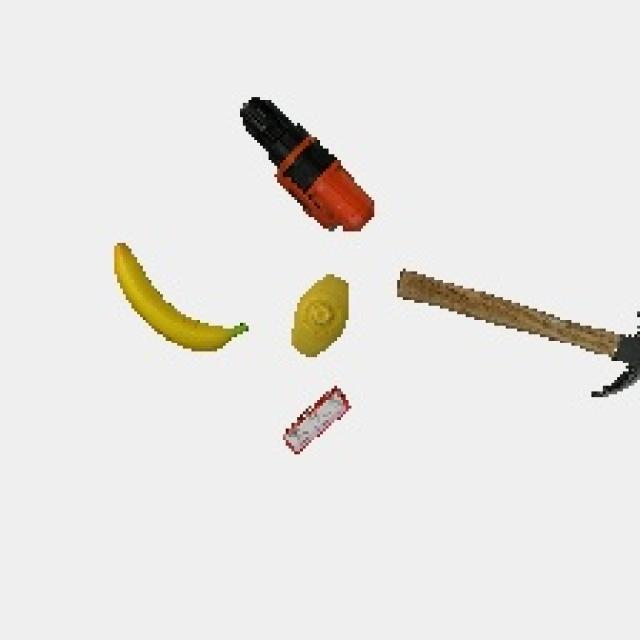Banana: (105, 238, 258, 362)
GelatinBox: (278, 382, 358, 464)
MustardBottle: (280, 270, 362, 364)
PowerDrill: (232, 89, 403, 234)
